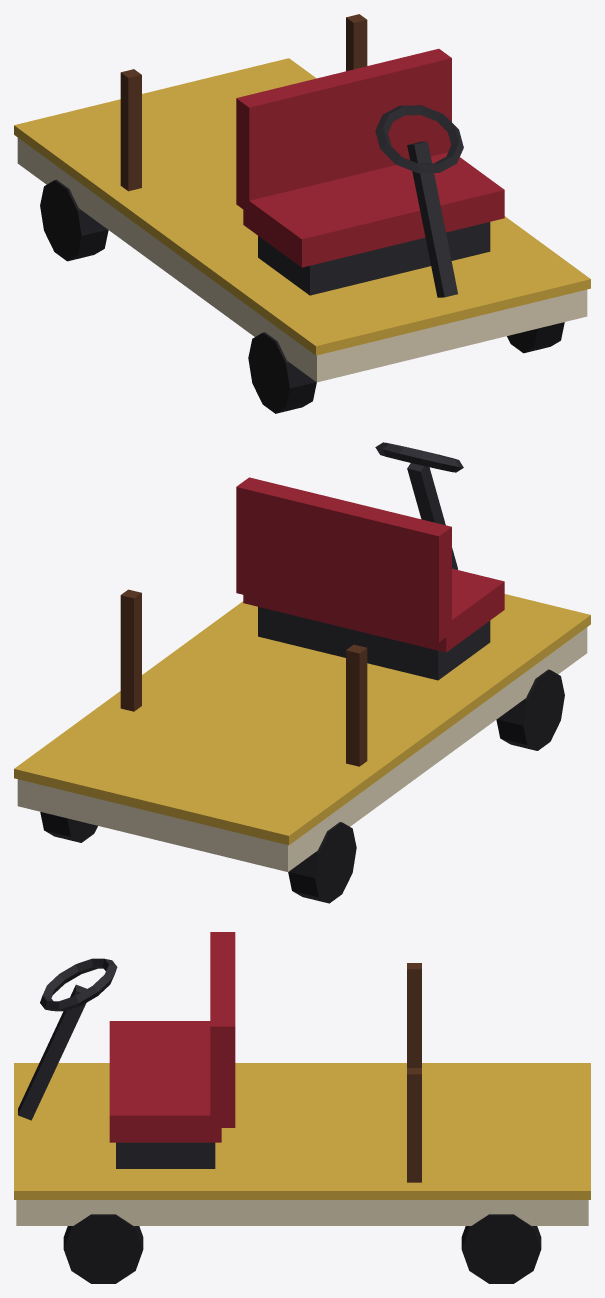
The model's file is gallery_cart.glb.
3 views of the same model, one above another, from view 1: azimuth 30°, elevation 25°; view 2: azimuth 150°, elevation 25°; view 3: azimuth 270°, elevation 25° (orthographic). The views are drawn at different scales.
Visible parts, largest first — view 1: deck_auction_gold, seat_cart_red (×2), deck_cart_cream, wheels_tire, seat_cart_dark, posts_auction_wood (×2), column_cart_dark, wheel_cart_dark; view 2: deck_auction_gold, seat_cart_red (×2), deck_cart_cream, wheels_tire, seat_cart_dark, posts_auction_wood (×2), column_cart_dark, wheel_cart_dark; view 3: deck_auction_gold, seat_cart_red (×2), deck_cart_cream, wheels_tire, posts_auction_wood (×2), seat_cart_dark, column_cart_dark, wheel_cart_dark.
Boxes of the visible parts, x1=… form: deck_auction_gold: x1=14, y1=58, x2=590, y2=355; seat_cart_red (×2): x1=236, y1=48, x2=504, y2=267; deck_cart_cream: x1=17, y1=137, x2=587, y2=382; wheels_tire: x1=40, y1=179, x2=564, y2=413; seat_cart_dark: x1=258, y1=222, x2=490, y2=295; posts_auction_wood (×2): x1=120, y1=14, x2=367, y2=191; column_cart_dark: x1=407, y1=141, x2=457, y2=297; wheel_cart_dark: x1=375, y1=105, x2=463, y2=173; deck_auction_gold: x1=14, y1=594, x2=590, y2=845; seat_cart_red (×2): x1=236, y1=477, x2=504, y2=652; deck_cart_cream: x1=17, y1=627, x2=587, y2=871; wheels_tire: x1=40, y1=669, x2=564, y2=903; seat_cart_dark: x1=258, y1=607, x2=490, y2=680; posts_auction_wood (×2): x1=120, y1=589, x2=367, y2=766; column_cart_dark: x1=407, y1=463, x2=457, y2=569; wheel_cart_dark: x1=375, y1=442, x2=463, y2=472; deck_auction_gold: x1=14, y1=1063, x2=590, y2=1199; seat_cart_red (×2): x1=109, y1=932, x2=235, y2=1142; deck_cart_cream: x1=16, y1=1200, x2=588, y2=1225; wheels_tire: x1=63, y1=1214, x2=541, y2=1283; posts_auction_wood (×2): x1=407, y1=963, x2=421, y2=1182; seat_cart_dark: x1=116, y1=1142, x2=215, y2=1168; column_cart_dark: x1=18, y1=984, x2=86, y2=1120; wheel_cart_dark: x1=40, y1=958, x2=117, y2=1011.
Bounding box in the file's own units: 1.22 × 1.13 × 2.32.
